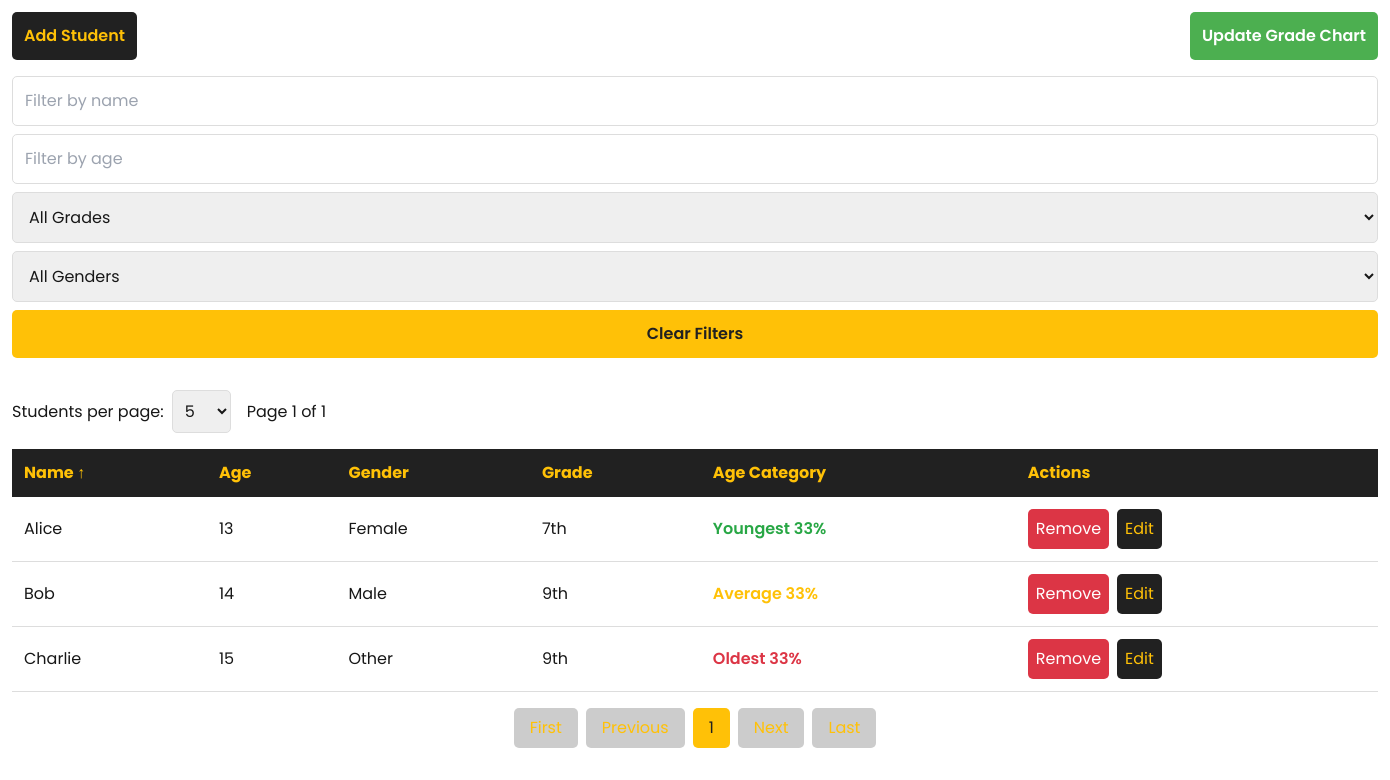
Test: filterStudents › filters students by grade
Select "7th" in the 1st dropdown at (695, 218), box 12,192 -> 1378,243
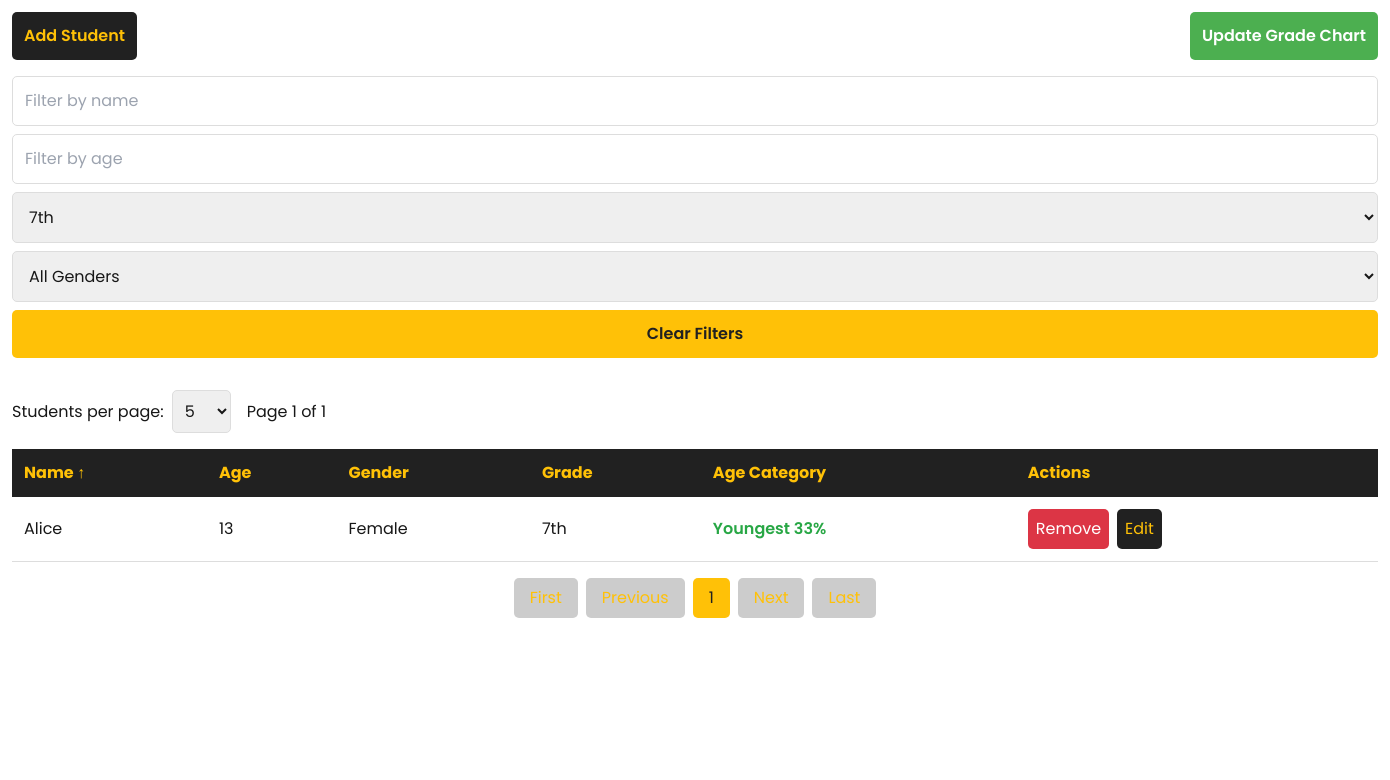
Check: the text "Alice" is shown, box 12,497 -> 207,562
Check: the text "Bob" is gone
Check: the text "Charlie" is gone
